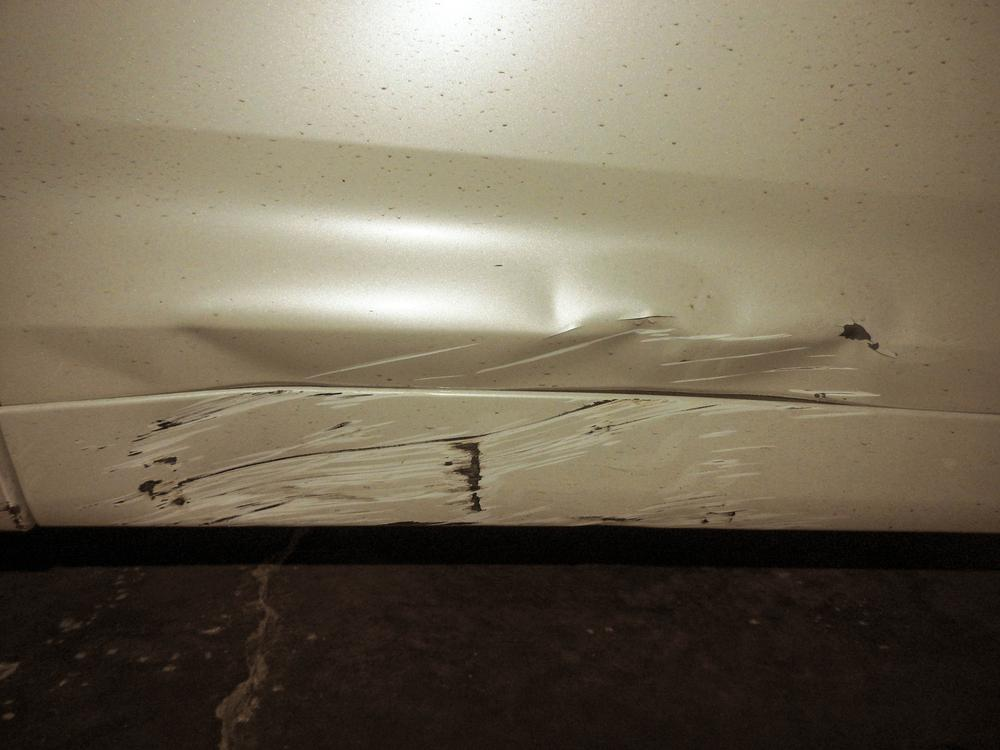dent: (517, 238, 752, 341)
scratch: (98, 313, 899, 533)
